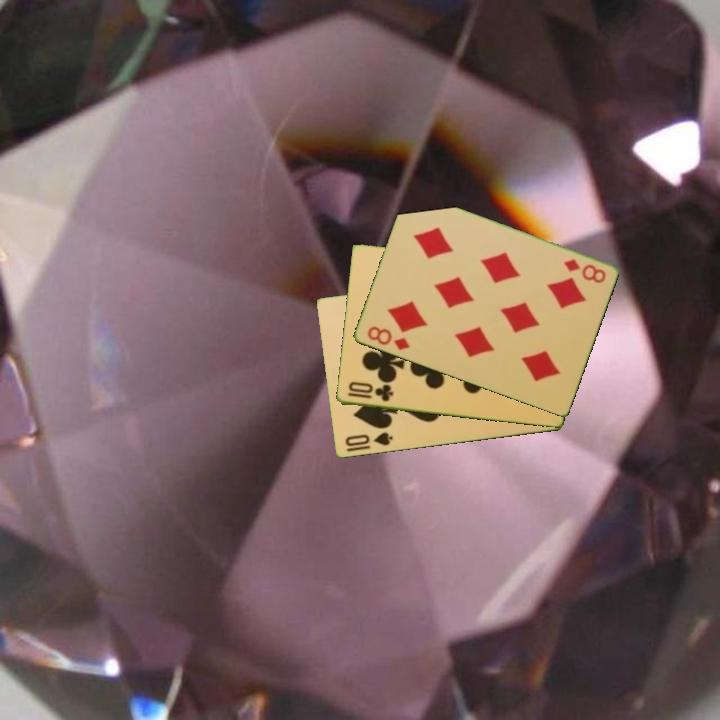10c: (344, 379, 395, 405)
10s: (341, 429, 396, 450)
8d: (363, 323, 412, 354), (560, 256, 609, 286)
